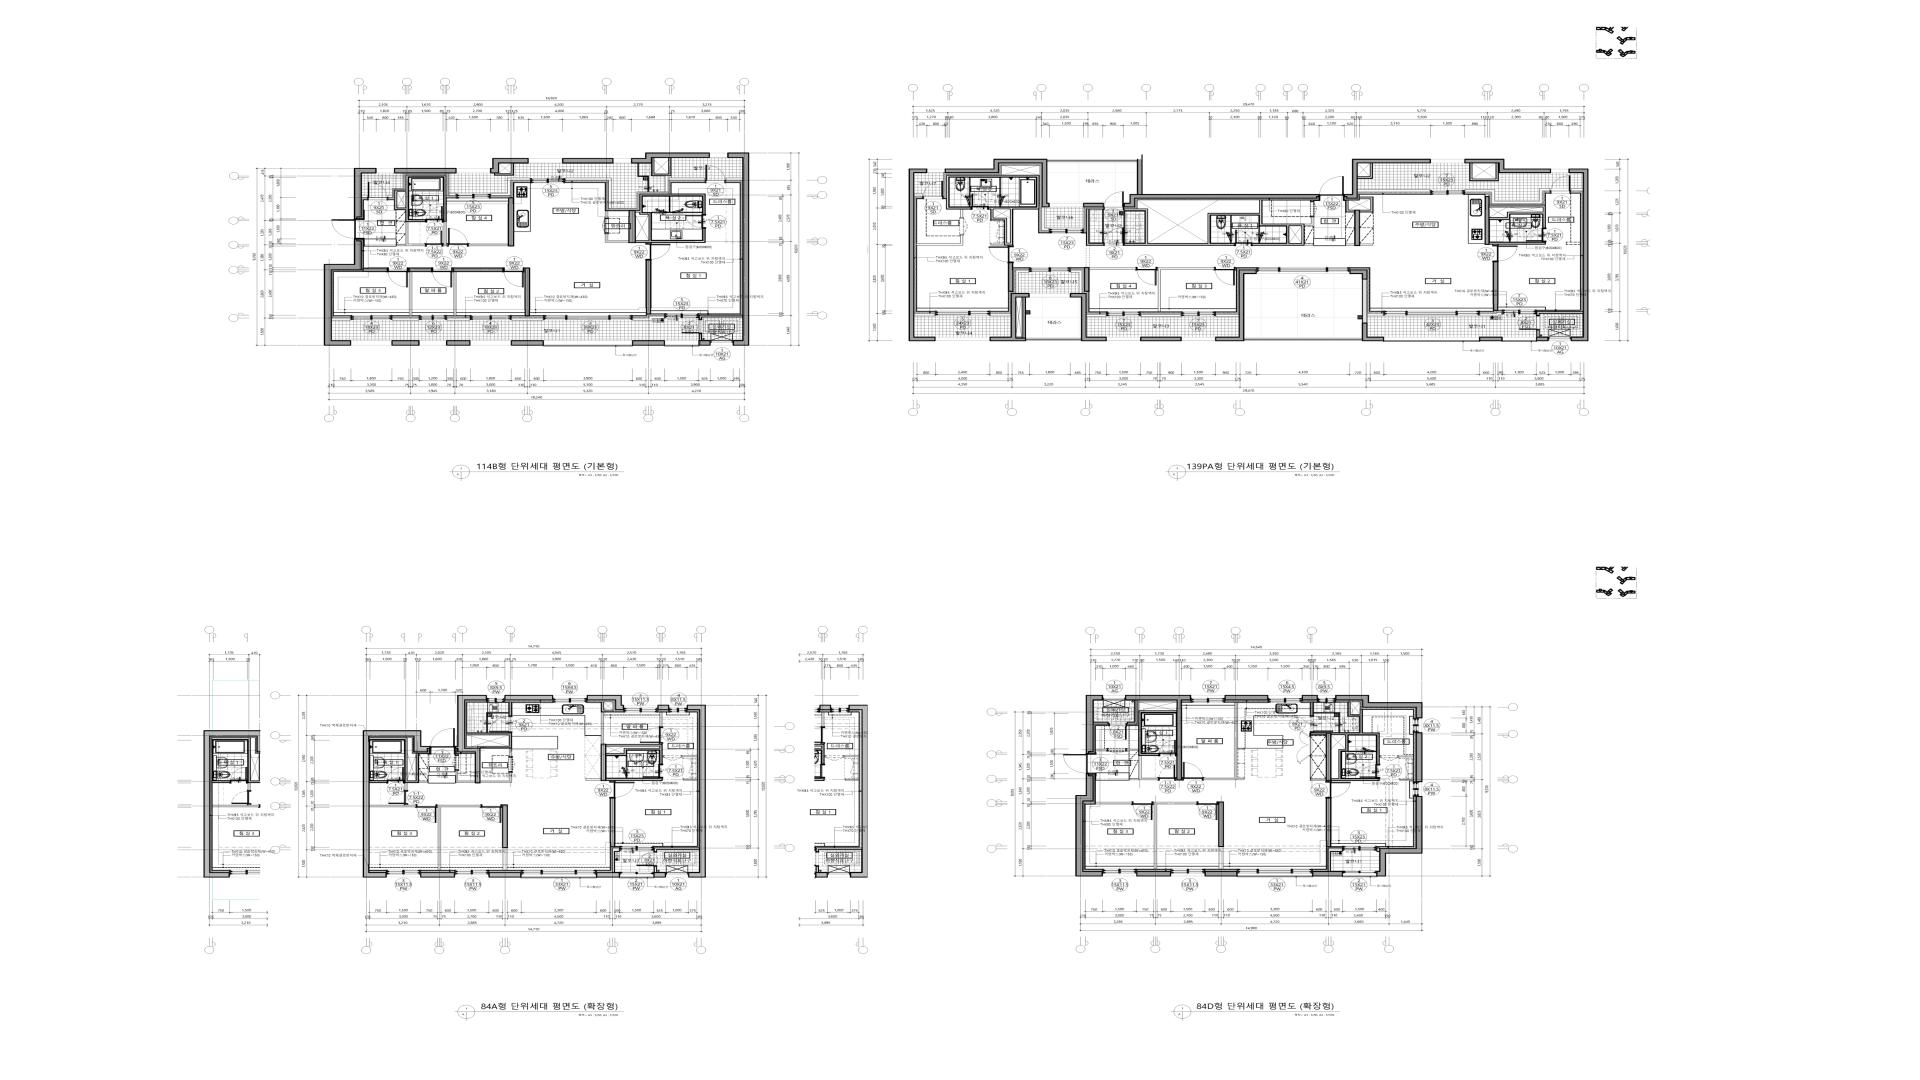door: (1063, 754, 1097, 774), (331, 219, 365, 239), (430, 728, 455, 755), (1319, 176, 1344, 201), (1325, 781, 1351, 799), (609, 781, 635, 799), (645, 243, 671, 261), (431, 267, 453, 288), (387, 267, 409, 288), (1492, 245, 1518, 262), (503, 267, 524, 288), (989, 246, 1014, 263), (1132, 801, 1154, 820), (1182, 762, 1204, 781), (416, 804, 438, 823), (1136, 267, 1158, 286), (1550, 175, 1571, 194), (367, 182, 388, 201), (1197, 801, 1218, 820), (481, 804, 502, 823), (447, 228, 468, 247), (1215, 267, 1236, 286), (1103, 227, 1124, 246), (640, 727, 663, 744), (489, 716, 512, 733), (1104, 191, 1124, 210), (705, 165, 726, 183), (1310, 716, 1333, 732), (923, 181, 943, 199), (681, 319, 702, 334), (1519, 315, 1540, 330), (1159, 740, 1177, 757), (1109, 723, 1127, 740), (425, 231, 444, 247), (388, 790, 408, 805), (686, 214, 706, 229), (1526, 228, 1547, 242), (387, 767, 404, 784), (426, 206, 443, 223), (1158, 765, 1176, 781), (971, 194, 989, 210), (1360, 764, 1380, 778), (643, 764, 663, 778), (1235, 230, 1252, 246), (1107, 748, 1127, 754), (960, 219, 968, 234), (1380, 755, 1399, 761), (663, 755, 682, 761), (602, 218, 609, 234), (508, 757, 515, 772)
wall: (363, 730, 430, 878), (1124, 159, 1319, 207), (1124, 200, 1314, 246), (946, 175, 1040, 246), (1125, 695, 1191, 781), (945, 159, 1050, 207), (909, 169, 936, 341), (727, 153, 749, 346), (324, 239, 362, 346), (1376, 796, 1423, 877), (1332, 702, 1380, 781), (394, 175, 447, 246), (1344, 159, 1431, 199), (1127, 711, 1177, 780), (1569, 169, 1589, 341), (636, 194, 706, 243), (687, 705, 706, 878), (1204, 703, 1244, 780), (369, 738, 428, 790), (1215, 270, 1257, 341), (1075, 774, 1103, 877), (1154, 802, 1197, 869), (455, 695, 487, 783), (438, 805, 481, 870), (1158, 268, 1215, 312), (1335, 695, 1423, 718), (990, 293, 1030, 341), (651, 158, 705, 192), (1070, 293, 1106, 341), (565, 178, 612, 209), (1465, 188, 1550, 204), (1490, 205, 1546, 228), (1465, 159, 1551, 173), (606, 744, 663, 764), (354, 168, 376, 219), (466, 733, 512, 757), (1086, 695, 1103, 754), (1362, 280, 1384, 323), (631, 153, 710, 164), (491, 178, 530, 196), (1086, 209, 1103, 246), (490, 158, 529, 173), (916, 234, 963, 246), (587, 695, 624, 710), (1469, 163, 1499, 181), (601, 702, 613, 744), (1245, 337, 1362, 341), (1362, 323, 1384, 341), (1047, 159, 1137, 163), (480, 772, 512, 783), (1416, 732, 1423, 782), (1328, 848, 1343, 871), (1015, 270, 1029, 293), (394, 168, 456, 173), (562, 158, 613, 164), (508, 197, 514, 247), (1326, 732, 1332, 781), (1493, 262, 1499, 311), (1326, 799, 1332, 847), (524, 268, 530, 316), (1070, 270, 1082, 293), (1218, 802, 1224, 847), (646, 261, 651, 315), (502, 804, 508, 848), (1225, 695, 1268, 701), (628, 211, 636, 243), (1485, 196, 1490, 245), (504, 695, 553, 700), (1358, 163, 1373, 179), (494, 164, 514, 176), (455, 771, 475, 783), (610, 799, 615, 847), (1359, 197, 1374, 213), (1127, 701, 1137, 724), (1026, 337, 1081, 341), (1358, 189, 1431, 192), (1354, 210, 1360, 246), (420, 872, 455, 878), (1136, 871, 1171, 877), (605, 234, 628, 243), (453, 268, 503, 272), (488, 872, 521, 878), (1205, 871, 1238, 877), (632, 340, 665, 346), (511, 340, 544, 346), (612, 848, 620, 872), (1312, 871, 1343, 877), (601, 744, 606, 781), (1041, 208, 1049, 231), (1537, 311, 1583, 315), (654, 848, 699, 852), (1350, 270, 1368, 280), (699, 315, 742, 319), (606, 778, 663, 781), (391, 340, 419, 346), (1140, 337, 1182, 341), (1490, 242, 1546, 245), (632, 316, 664, 321), (1084, 267, 1090, 292), (1008, 263, 1013, 292), (596, 872, 620, 878), (446, 340, 470, 346), (409, 272, 412, 316), (453, 272, 456, 316), (1141, 314, 1181, 317), (1023, 298, 1026, 338), (1219, 847, 1224, 869), (1345, 201, 1354, 212), (511, 318, 543, 321), (1302, 695, 1318, 701), (363, 268, 387, 272), (1479, 337, 1503, 341), (370, 805, 416, 807), (1090, 268, 1136, 270), (1480, 312, 1502, 316), (503, 848, 507, 870), (409, 268, 431, 272), (1083, 203, 1104, 207), (392, 318, 419, 321), (468, 244, 508, 246), (653, 872, 666, 878), (698, 340, 711, 346), (1096, 802, 1132, 804), (1216, 314, 1239, 317), (447, 318, 470, 321), (914, 313, 935, 316), (1087, 314, 1106, 317), (332, 318, 351, 321), (1310, 702, 1314, 716), (658, 705, 669, 710), (369, 780, 387, 783), (1536, 337, 1549, 341), (726, 178, 742, 181), (1310, 732, 1326, 735), (1469, 242, 1485, 245), (990, 314, 1011, 316), (509, 702, 512, 716), (1571, 188, 1583, 191), (514, 244, 530, 246), (1094, 722, 1109, 724), (1311, 779, 1326, 781), (660, 712, 662, 727), (586, 779, 601, 781), (683, 779, 697, 781), (1536, 330, 1540, 337), (914, 194, 923, 197), (1400, 779, 1413, 781), (1360, 244, 1373, 246), (1096, 749, 1107, 751), (449, 193, 456, 196), (605, 211, 608, 218), (654, 866, 657, 872), (699, 334, 702, 340), (1346, 244, 1354, 246), (362, 195, 367, 198), (388, 195, 393, 198), (682, 756, 697, 757), (1399, 756, 1413, 757), (1485, 194, 1489, 196), (1377, 848, 1379, 852)
window: (1257, 267, 1350, 274), (521, 870, 596, 878), (1238, 869, 1312, 877), (1384, 311, 1480, 316), (1384, 337, 1479, 342), (543, 315, 632, 320), (544, 341, 632, 346), (935, 311, 990, 316), (553, 695, 587, 703), (1268, 695, 1302, 703), (624, 705, 657, 713), (1191, 696, 1225, 703), (1171, 869, 1205, 876), (455, 870, 488, 877), (387, 870, 420, 877), (1103, 869, 1136, 876), (936, 337, 990, 341), (1029, 267, 1070, 272), (351, 315, 392, 320), (470, 315, 511, 320), (620, 872, 653, 878), (1343, 871, 1376, 877), (1181, 311, 1216, 316), (1106, 311, 1141, 316), (664, 313, 699, 318), (456, 194, 491, 199), (530, 178, 565, 183), (1502, 310, 1537, 315), (1049, 229, 1084, 234), (1343, 846, 1377, 851), (620, 846, 654, 851), (1431, 190, 1465, 195), (665, 341, 698, 346), (1503, 337, 1536, 342), (470, 341, 511, 345), (351, 341, 391, 345), (669, 705, 687, 713), (419, 315, 447, 320), (487, 695, 504, 703), (1431, 159, 1465, 163), (1182, 337, 1215, 341), (1107, 337, 1140, 341), (1050, 203, 1083, 207), (529, 159, 562, 163), (457, 169, 490, 173), (1413, 782, 1422, 796), (1413, 718, 1422, 732), (1030, 294, 1070, 297), (1318, 696, 1335, 703), (666, 872, 688, 877), (1103, 695, 1125, 700), (711, 340, 733, 345), (420, 341, 446, 345), (1549, 337, 1571, 341), (710, 153, 727, 158), (927, 169, 945, 173), (613, 159, 631, 163), (1551, 169, 1569, 173), (377, 169, 394, 173)
